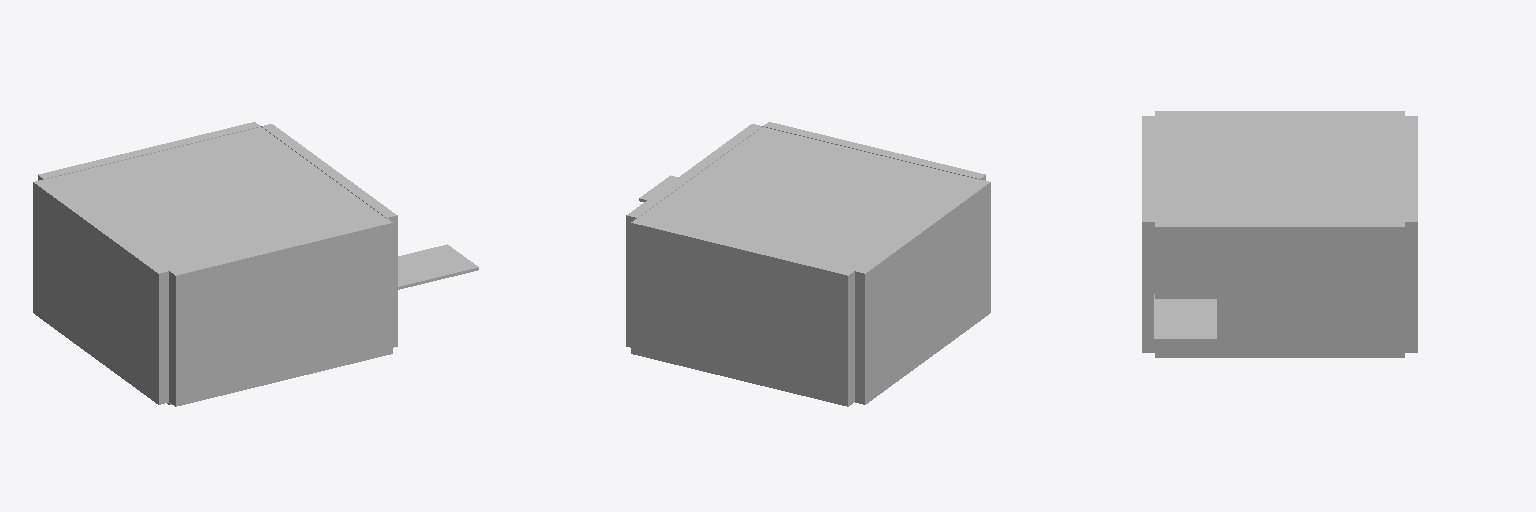
The model's file is level1.obj.
3 views of the same model, side by side, from view 1: azimuth 30°, elevation 25°; view 2: azimuth 150°, elevation 25°; view 3: azimuth 270°, elevation 25° (orthographic).
Parts seen in each view (by area): view 1: Cube.002_Cube.004, Cube.016_Cube.018, Cube.003_Cube.005, Cube.004_Cube.006, Cube_Cube.002, Cube.001_Cube.003; view 2: Cube.001_Cube.003, Cube.016_Cube.018, Cube.003_Cube.005, Cube_Cube.002, Cube.002_Cube.004; view 3: Cube_Cube.002, Cube.016_Cube.018, Cube.001_Cube.003, Cube.002_Cube.004, Cube.004_Cube.006, Cube.003_Cube.005.
Boxes of the visible parts, x1,y1,x2,y2 form: Cube.002_Cube.004: [169, 218, 392, 406]; Cube.016_Cube.018: [45, 127, 384, 270]; Cube.003_Cube.005: [33, 179, 168, 404]; Cube.004_Cube.006: [393, 244, 478, 290]; Cube_Cube.002: [261, 124, 397, 347]; Cube.001_Cube.003: [38, 122, 260, 180]; Cube.001_Cube.003: [631, 218, 854, 406]; Cube.016_Cube.018: [639, 127, 978, 270]; Cube.003_Cube.005: [855, 179, 990, 404]; Cube_Cube.002: [626, 124, 762, 347]; Cube.002_Cube.004: [763, 122, 985, 180]; Cube_Cube.002: [1155, 222, 1404, 357]; Cube.016_Cube.018: [1155, 116, 1404, 221]; Cube.001_Cube.003: [1405, 116, 1417, 352]; Cube.002_Cube.004: [1142, 116, 1154, 352]; Cube.004_Cube.006: [1154, 294, 1216, 341]; Cube.003_Cube.005: [1155, 111, 1404, 115].
Bounding box in the file's own units: 58.99 × 23.65 × 44.